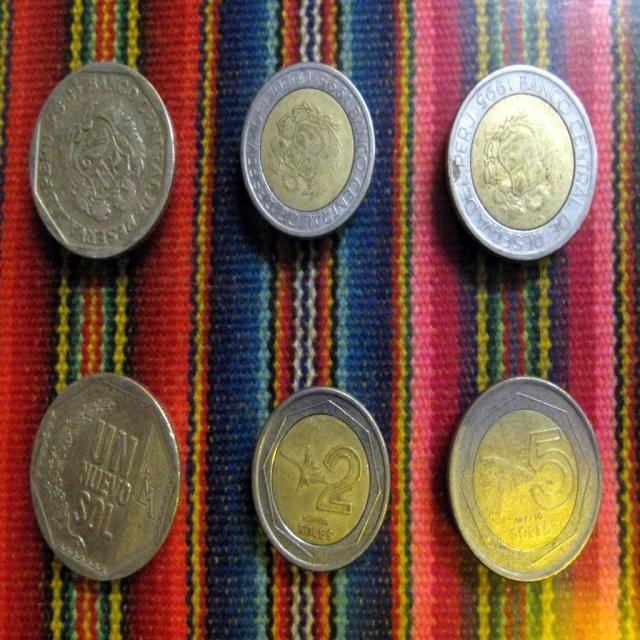Coin: (30, 372, 184, 584), (448, 377, 605, 584), (447, 61, 600, 263), (29, 62, 177, 258), (250, 391, 392, 570), (240, 60, 375, 239)
